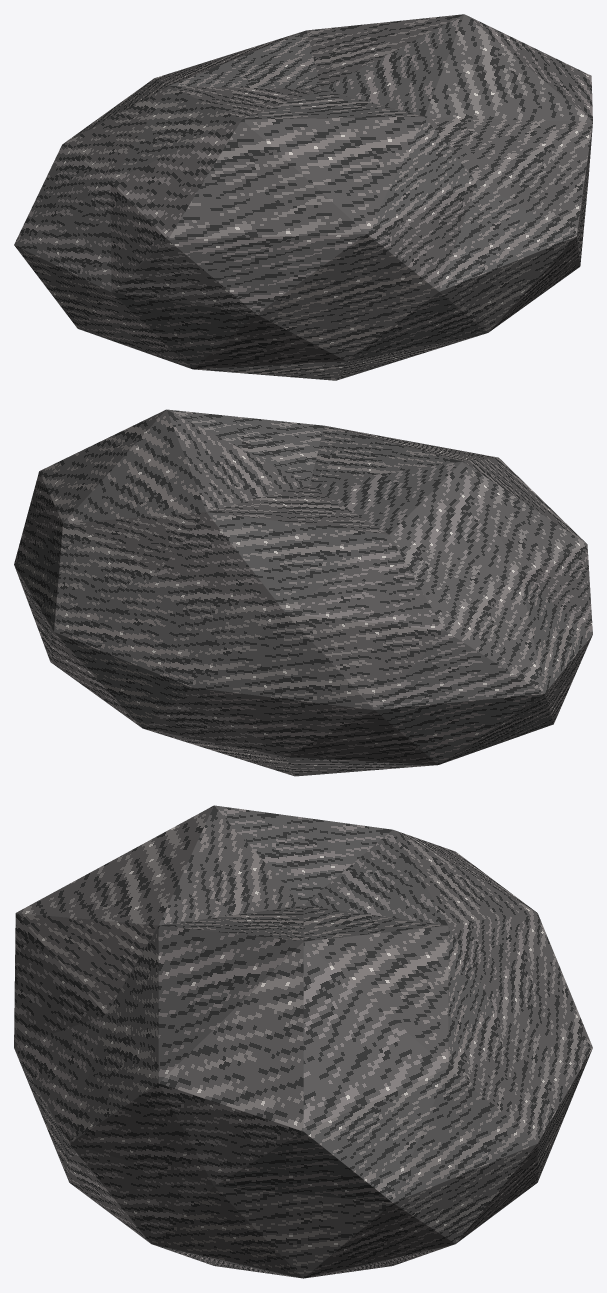
Rendered from Stein_2.fbx.
The picture shows the model from 3 angles, top to bottom: view 1: azimuth 30°, elevation 25°; view 2: azimuth 150°, elevation 25°; view 3: azimuth 270°, elevation 25°; orthographic projection. The views are drawn at different scales.
Parts seen in each view (by area): view 1: Icosphere; view 2: Icosphere; view 3: Icosphere.
Boxes of the visible parts, <box> form: Icosphere: <box>14,14,592,380</box>; Icosphere: <box>14,409,592,776</box>; Icosphere: <box>14,805,592,1278</box>.
Size of the model in its own units: 397 by 210 by 300.
